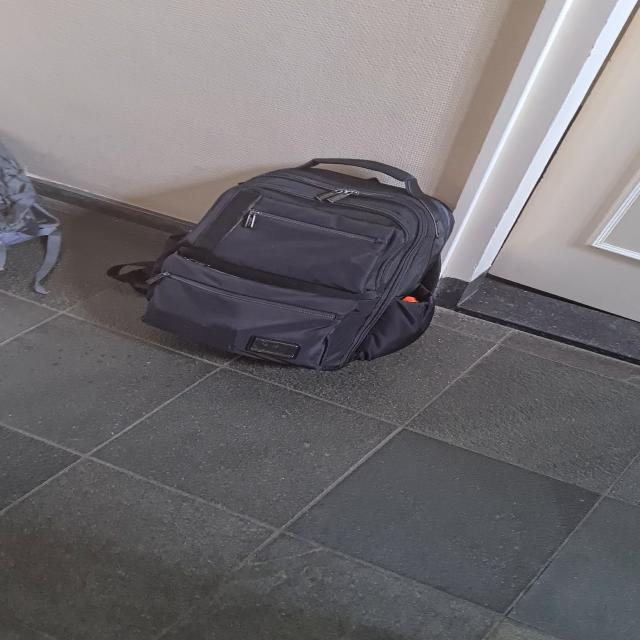backpack: (117, 155, 464, 376), (0, 136, 70, 274), (68, 283, 72, 285)
